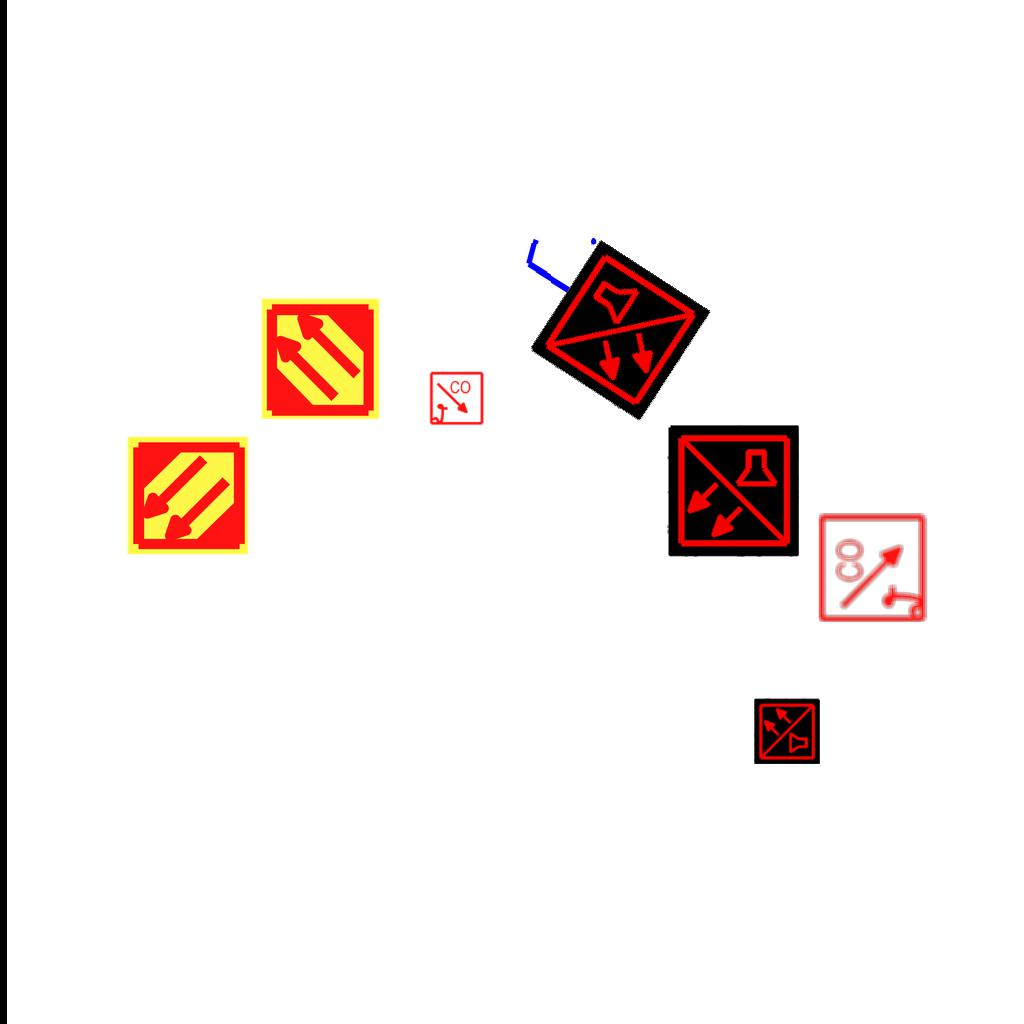ASR_Ansaugrauchmelder: (125, 433, 250, 558), (258, 296, 383, 421)
Ausschalter_beleuchtet: (515, 229, 615, 345)
OKW_Multisensormelder_(Kombination_optischer_Rauch-Kahlenmonoxid_Waerme-Melder): (528, 239, 712, 423), (667, 425, 799, 557), (754, 698, 820, 764)
ROA_Rauchmelder_optisch_mit_Signalgeber_(Sockelsirene): (817, 511, 930, 624), (429, 371, 485, 427)
